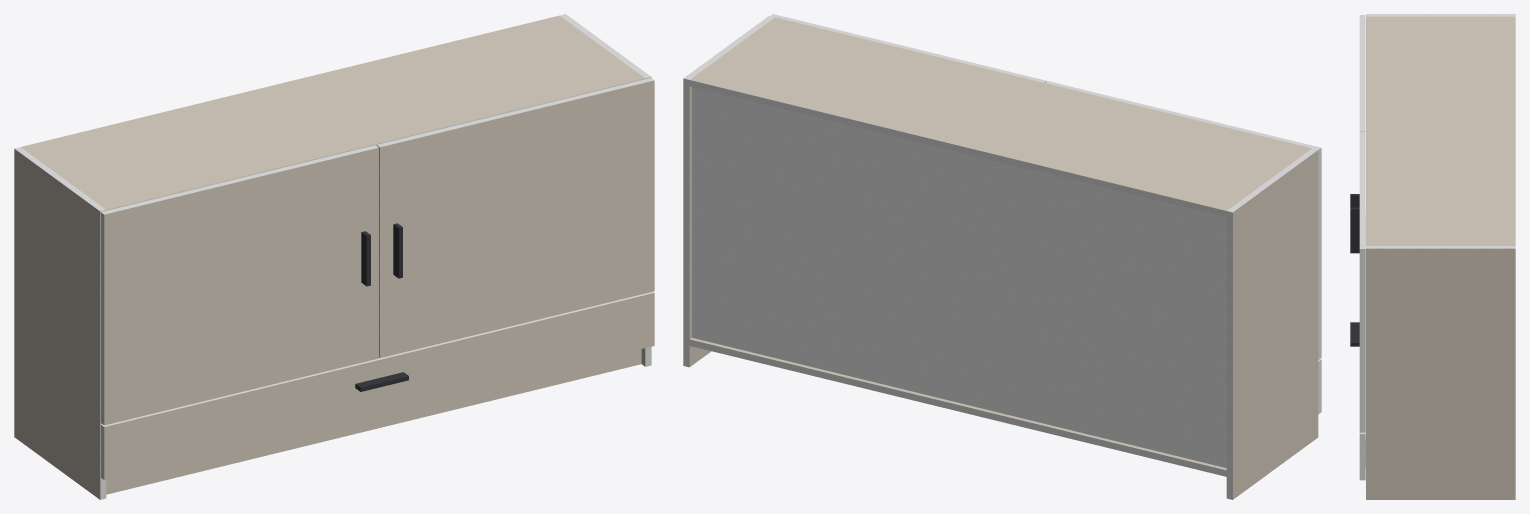
Rendered from CAL-SDB-std.glb.
The picture shows the model from 3 angles, left to right: view 1: azimuth 30°, elevation 25°; view 2: azimuth 150°, elevation 25°; view 3: azimuth 270°, elevation 25°; orthographic projection. The views are drawn at different scales.
Parts seen in each view (by area): view 1: door-l:pbr, door-r:pbr, top:pbr, d1-front:pbr, side-l:pbr, plinth:pbr, pull, d1-front:sheet:eyJtIjoibWRmIiwic2lkZSI6ImVkZ2UtbG9uZyIsInNlZ, door-l:sheet:eyJtIjoibWRmIiwic2lkZSI6ImVkZ2UtbG9uZyIsInNlZWQ, door-r:sheet:eyJtIjoibWRmIiwic2lkZSI6ImVkZ2UtbG9uZyIsInNlZWQ, top:sheet:eyJtIjoibWRmIiwic2lkZSI6ImVkZ2UtbG9uZyIsInNlZWQiOj, door-l:sheet:eyJtIjoibWRmIiwic2lkZSI6ImVkZ2UtZW5kIiwic2VlZCI; view 2: back:sheet:eyJtIjoibWRmIiwic2lkZSI6ImZhY2UiLCJzZWVkIjoyLCJ0a, top:pbr, side-l:pbr, bottom:sheet:eyJtIjoibWRmIiwic2lkZSI6ImVkZ2UtbG9uZyIsInNlZWQ, top:sheet:eyJtIjoibWRmIiwic2lkZSI6ImVkZ2UtbG9uZyIsInNlZWQiOj, side-r:sheet:eyJtIjoibWRmIiwic2lkZSI6ImVkZ2UtbG9uZyIsInNlZWQ, side-l:sheet:eyJtIjoibWRmIiwic2lkZSI6ImVkZ2UtbG9uZyIsInNlZWQ, bottom:pbr, side-r:pbr, door-l:sheet:eyJtIjoibWRmIiwic2lkZSI6ImVkZ2UtbG9uZyIsInNlZWQ, door-r:sheet:eyJtIjoibWRmIiwic2lkZSI6ImVkZ2UtbG9uZyIsInNlZWQ, door-l:sheet:eyJtIjoibWRmIiwic2lkZSI6ImVkZ2UtZW5kIiwic2VlZCI; view 3: side-r:pbr, top:pbr, door-r:sheet:eyJtIjoibWRmIiwic2lkZSI6ImVkZ2UtZW5kIiwic2VlZCI, pull, door-l:sheet:eyJtIjoibWRmIiwic2lkZSI6ImVkZ2UtbG9uZyIsInNlZWQ, door-r:sheet:eyJtIjoibWRmIiwic2lkZSI6ImVkZ2UtbG9uZyIsInNlZWQ, side-l:sheet:eyJtIjoibWRmIiwic2lkZSI6ImVkZ2UtZW5kIiwic2VlZCI, side-r:sheet:eyJtIjoibWRmIiwic2lkZSI6ImVkZ2UtZW5kIiwic2VlZCI, d1-front:sheet:eyJtIjoibWRmIiwic2lkZSI6ImVkZ2UtZW5kIiwic2VlZ, d1-box-front:sheet:eyJtIjoibWRmIiwic2lkZSI6ImVkZ2UtbG9uZyIsI.
Boxes of the visible parts, box(x1,y1,x2,y2) form: door-l:pbr: box(104, 147, 378, 425); door-r:pbr: box(380, 80, 654, 357); top:pbr: box(21, 15, 644, 209); d1-front:pbr: box(104, 293, 654, 479); side-l:pbr: box(14, 149, 100, 499); plinth:pbr: box(106, 349, 641, 494); pull: box(355, 223, 408, 391); d1-front:sheet:eyJtIjoibWRmIiwic2lkZSI6ImVkZ2UtbG9uZyIsInNlZ: box(101, 291, 654, 426); door-l:sheet:eyJtIjoibWRmIiwic2lkZSI6ImVkZ2UtbG9uZyIsInNlZWQ: box(101, 145, 378, 214); door-r:sheet:eyJtIjoibWRmIiwic2lkZSI6ImVkZ2UtbG9uZyIsInNlZWQ: box(377, 78, 654, 147); top:sheet:eyJtIjoibWRmIiwic2lkZSI6ImVkZ2UtbG9uZyIsInNlZWQiOj: box(106, 78, 645, 210); door-l:sheet:eyJtIjoibWRmIiwic2lkZSI6ImVkZ2UtZW5kIiwic2VlZCI: box(101, 212, 104, 424); back:sheet:eyJtIjoibWRmIiwic2lkZSI6ImZhY2UiLCJzZWVkIjoyLCJ0a: box(692, 87, 1226, 467); top:pbr: box(690, 17, 1311, 210); side-l:pbr: box(1233, 150, 1318, 499); bottom:sheet:eyJtIjoibWRmIiwic2lkZSI6ImVkZ2UtbG9uZyIsInNlZWQ: box(689, 339, 1226, 476); top:sheet:eyJtIjoibWRmIiwic2lkZSI6ImVkZ2UtbG9uZyIsInNlZWQiOj: box(689, 80, 1226, 217); side-r:sheet:eyJtIjoibWRmIiwic2lkZSI6ImVkZ2UtbG9uZyIsInNlZWQ: box(683, 78, 689, 367); side-l:sheet:eyJtIjoibWRmIiwic2lkZSI6ImVkZ2UtbG9uZyIsInNlZWQ: box(1226, 211, 1232, 499); bottom:pbr: box(690, 338, 1226, 470); side-r:pbr: box(689, 86, 711, 366); door-l:sheet:eyJtIjoibWRmIiwic2lkZSI6ImVkZ2UtbG9uZyIsInNlZWQ: box(1045, 81, 1321, 149); door-r:sheet:eyJtIjoibWRmIiwic2lkZSI6ImVkZ2UtbG9uZyIsInNlZWQ: box(771, 14, 1046, 82); door-l:sheet:eyJtIjoibWRmIiwic2lkZSI6ImVkZ2UtZW5kIiwic2VlZCI: box(1318, 148, 1321, 359); side-r:pbr: box(1366, 248, 1515, 499); top:pbr: box(1366, 16, 1515, 245); door-r:sheet:eyJtIjoibWRmIiwic2lkZSI6ImVkZ2UtZW5kIiwic2VlZCI: box(1359, 249, 1365, 432); pull: box(1350, 194, 1359, 346); door-l:sheet:eyJtIjoibWRmIiwic2lkZSI6ImVkZ2UtbG9uZyIsInNlZWQ: box(1359, 15, 1365, 131); door-r:sheet:eyJtIjoibWRmIiwic2lkZSI6ImVkZ2UtbG9uZyIsInNlZWQ: box(1359, 132, 1365, 248); side-l:sheet:eyJtIjoibWRmIiwic2lkZSI6ImVkZ2UtZW5kIiwic2VlZCI: box(1366, 14, 1515, 16); side-r:sheet:eyJtIjoibWRmIiwic2lkZSI6ImVkZ2UtZW5kIiwic2VlZCI: box(1366, 246, 1515, 248); d1-front:sheet:eyJtIjoibWRmIiwic2lkZSI6ImVkZ2UtZW5kIiwic2VlZ: box(1359, 434, 1365, 480); d1-box-front:sheet:eyJtIjoibWRmIiwic2lkZSI6ImVkZ2UtbG9uZyIsI: box(1365, 217, 1365, 437).
Size of the model in its own units: 1.6 by 0.8 by 0.4769.
Materials: 55 (42 with a texture image).
